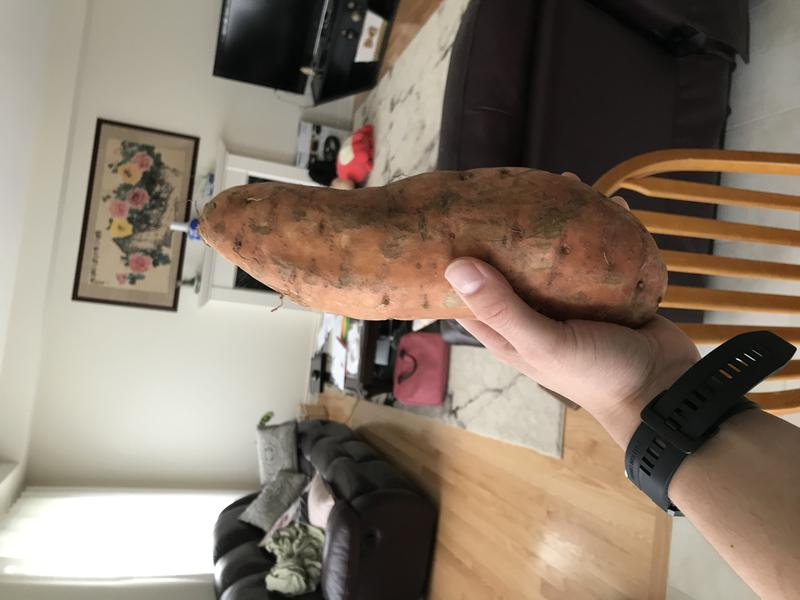sweet_potato: (193, 158, 683, 341)
